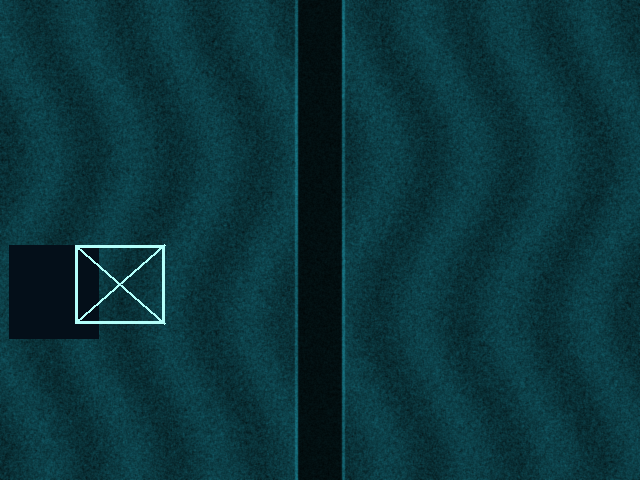Abandoned Equipment: (75, 245, 164, 323)
